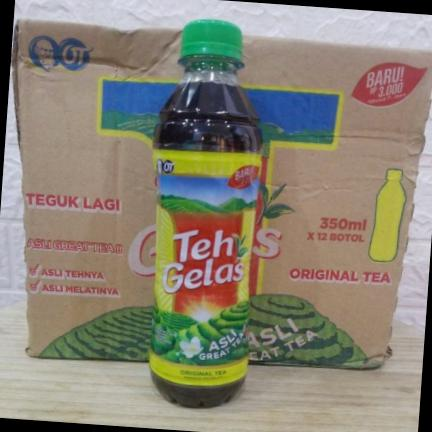container: (149, 18, 266, 407)
fluid: (149, 76, 262, 407), (150, 182, 258, 406)
fluid-surface: (178, 76, 240, 87)
